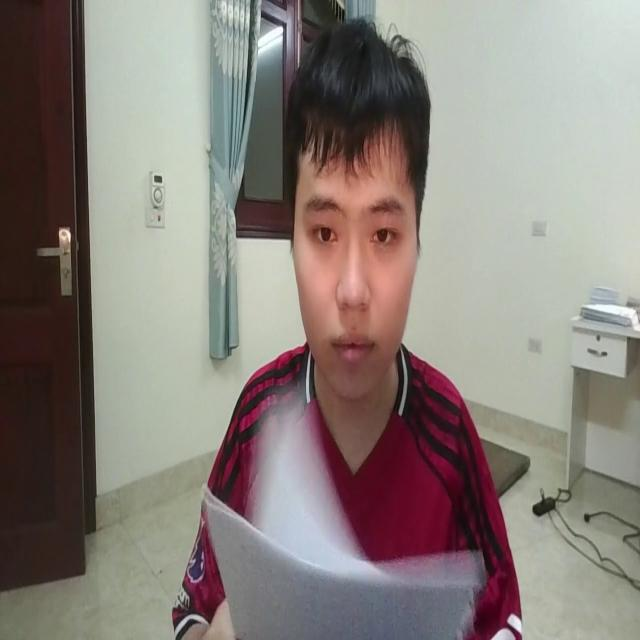book: (199, 410, 486, 640)
student: (172, 13, 518, 640)
